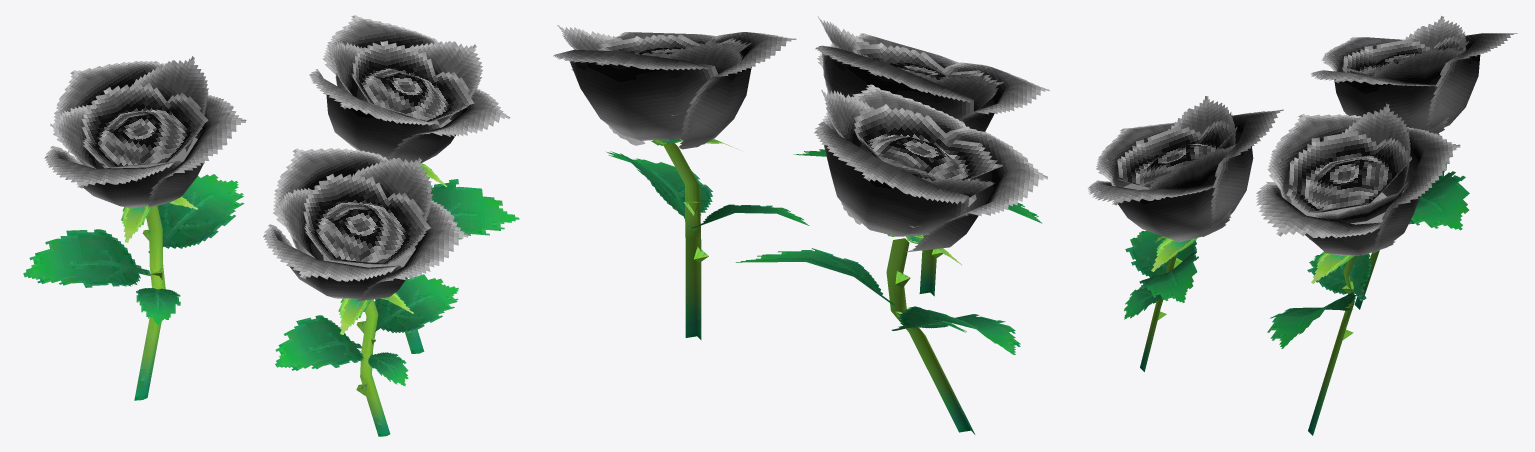
Rendered from flower-rose.glb.
3 renders of one model, left to right at view 1: azimuth 30°, elevation 25°; view 2: azimuth 150°, elevation 25°; view 3: azimuth 270°, elevation 25°, orthographic. The views are drawn at different scales.
Bounding box in the file's own units: 10.07 × 6.53 × 8.37.
2 materials, 2 textured.
